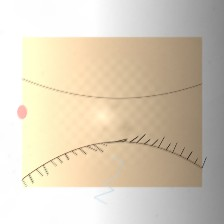foreign_body_visible: (94, 110, 114, 126)
